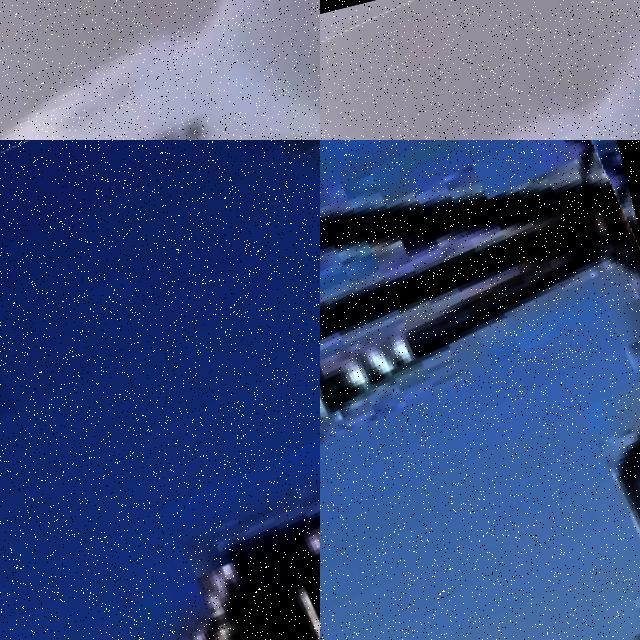0: (0, 140, 320, 640), (320, 140, 640, 640)
drone: (0, 0, 320, 140), (320, 0, 640, 140)
